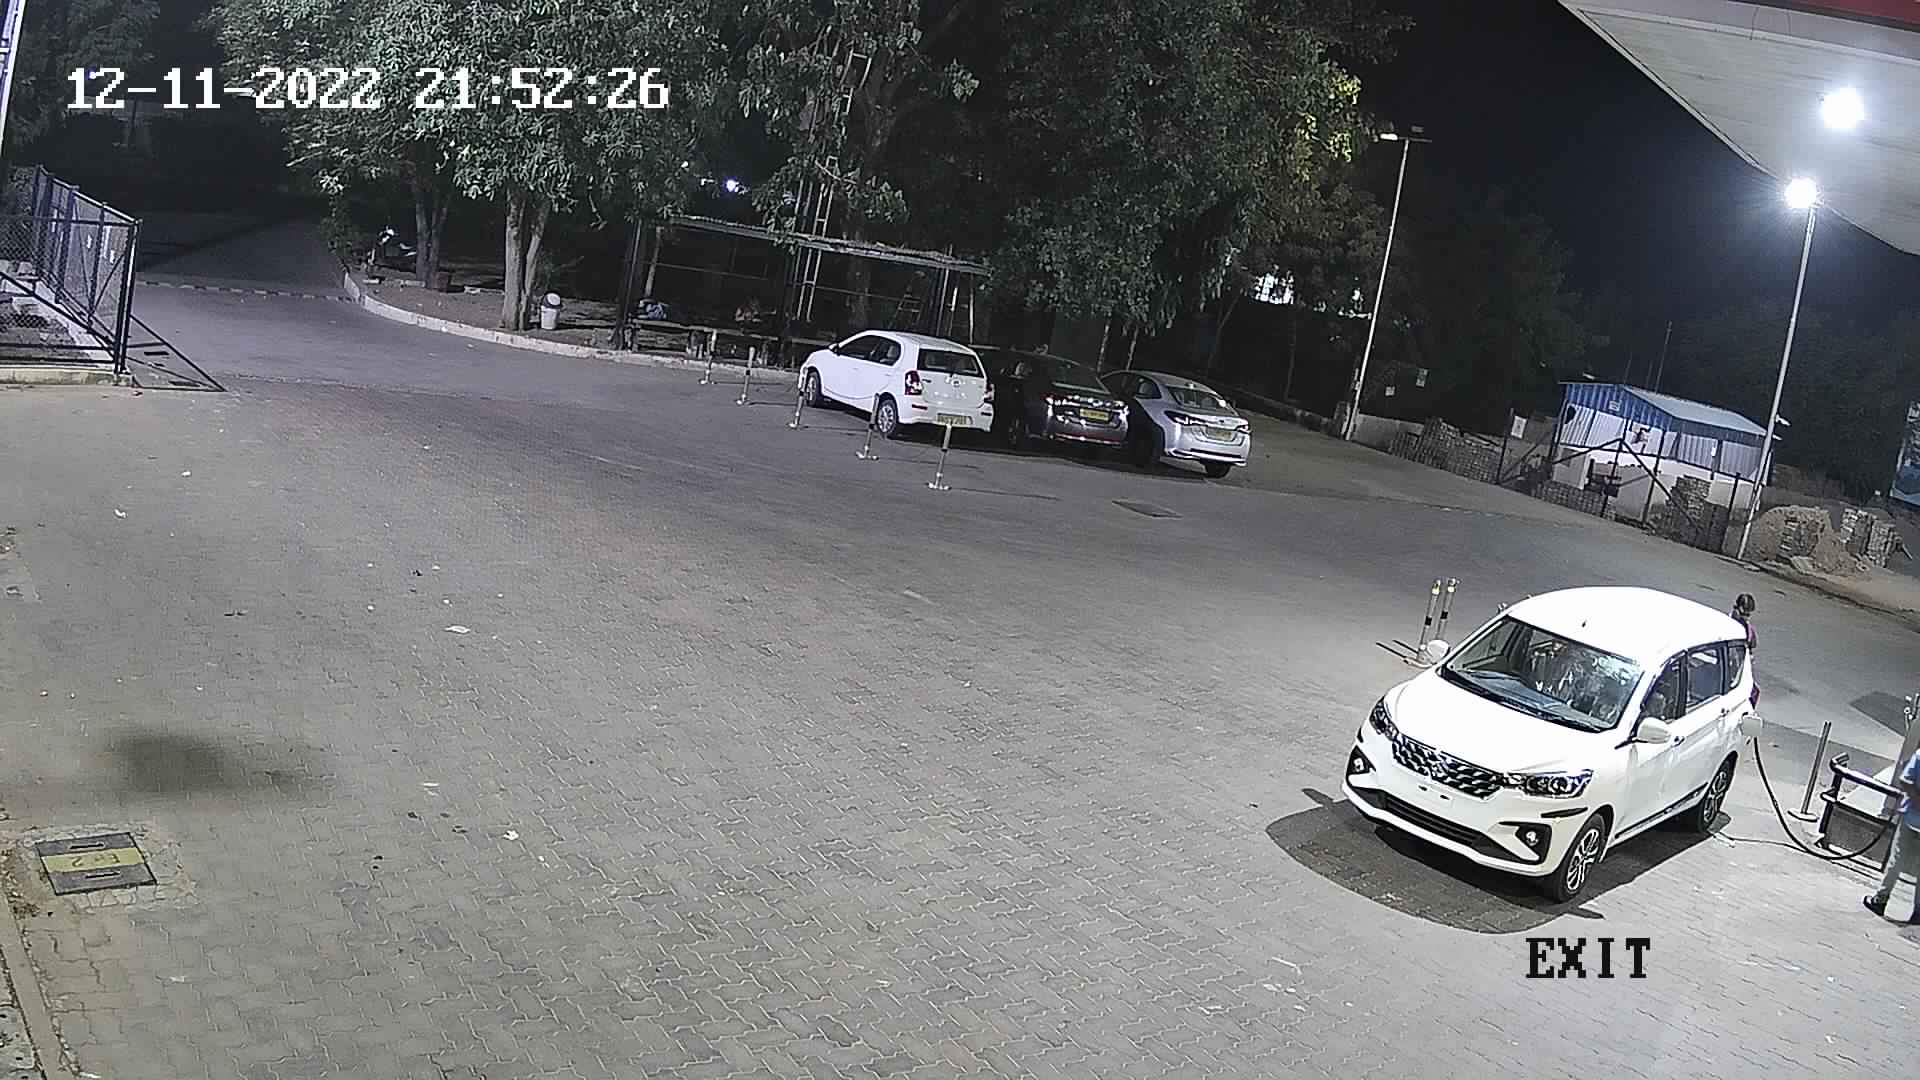Bike: (345, 198, 426, 286)
Car: (1337, 566, 1762, 897), (786, 320, 1011, 450), (960, 334, 1139, 465), (1093, 360, 1261, 483)
Others: (1859, 725, 1917, 942)
